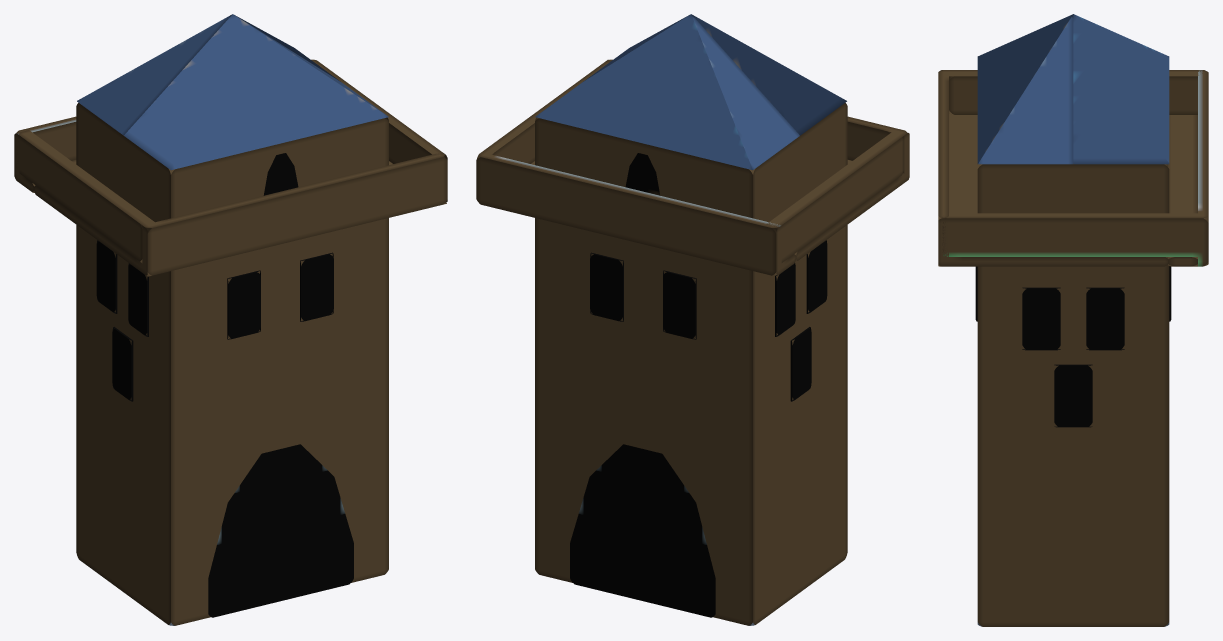
The model's file is gustrow_mubre tor.fbx.
The picture shows the model from 3 angles, left to right: view 1: azimuth 30°, elevation 25°; view 2: azimuth 150°, elevation 25°; view 3: azimuth 270°, elevation 25°; orthographic projection.
Parts seen in each view (by area): view 1: column, cuboid, door_1, cuboid_3, cuboid_4, cuboid_7, cuboid_1, cuboid_6; view 2: column, cuboid, door, cuboid_2, cuboid_5, cuboid_7, cuboid_6, cuboid_1; view 3: column, cuboid, cuboid_10, cuboid_8, cuboid_9.
Part boxes in pixels (<box>): column: <box>76,14,388,625</box>; cuboid: <box>14,59,447,276</box>; door_1: <box>208,444,353,617</box>; cuboid_3: <box>227,270,260,339</box>; cuboid_4: <box>300,252,333,321</box>; cuboid_7: <box>112,327,133,401</box>; cuboid_1: <box>96,240,117,313</box>; cuboid_6: <box>128,263,148,336</box>; column: <box>535,14,847,625</box>; cuboid: <box>476,59,909,275</box>; door: <box>570,444,715,617</box>; cuboid_2: <box>663,270,696,339</box>; cuboid_5: <box>590,252,623,321</box>; cuboid_7: <box>790,327,811,401</box>; cuboid_6: <box>806,240,827,313</box>; cuboid_1: <box>775,263,795,336</box>; column: <box>977,14,1169,626</box>; cuboid: <box>938,70,1208,266</box>; cuboid_10: <box>1054,364,1092,427</box>; cuboid_8: <box>1086,287,1124,350</box>; cuboid_9: <box>1022,287,1060,350</box>.
Size of the model in its own units: 103 by 181 by 79.38.
Materials: 1 (1 with a texture image).
